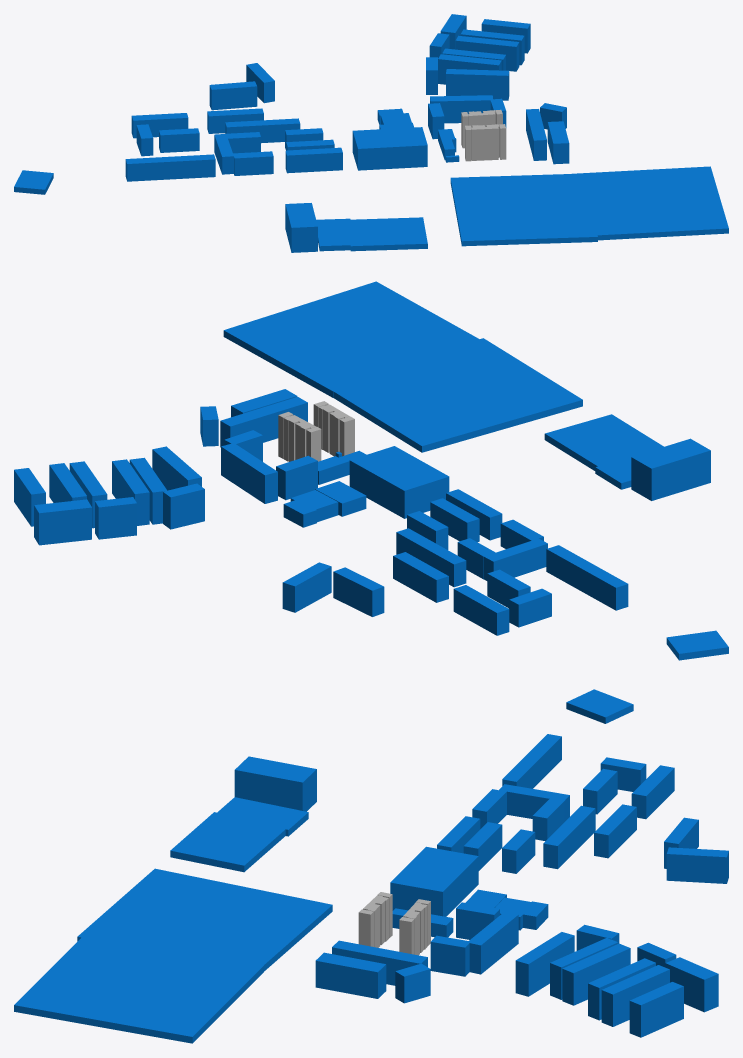
File: Dummy_LOC.fbx
The picture shows the model from 3 angles, top to bottom: view 1: azimuth 30°, elevation 25°; view 2: azimuth 150°, elevation 25°; view 3: azimuth 270°, elevation 25°; orthographic projection. The views are drawn at different scales.
Visible parts, largest first — view 1: Cube__35_, Cube__34_, Cube__41_, Cube__36_, Cube__40_, Cube__11_, Cube__38_, Cube__26_, Cube__21_, Cube__23_, Cube__14_, Cube__5__2 (+23 smaller); view 2: Cube__34_, Cube__35_, Cube__41_, Cube__38_, Cube__36_, Cube__40_, Cube__19_, Cube__5__2, Cube__43_, Cube__23_, Cube__30_, Cube__21_ (+28 smaller); view 3: Cube__35_, Cube__34_, Cube__41_, Cube__36_, Cube__38_, Cube__42_, Cube__16_, Cube__13_, Cube__20_, Cube__11_, Cube__15_, Cube__5__2 (+27 smaller).
Boxes of the visible parts, x1,y1,x2,y2 form: Cube__35_: (572, 166, 728, 240); Cube__34_: (450, 174, 597, 246); Cube__41_: (352, 127, 427, 170); Cube__36_: (348, 217, 427, 251); Cube__40_: (125, 154, 215, 181); Cube__11_: (446, 69, 509, 100); Cube__38_: (285, 203, 317, 252); Cube__26_: (285, 147, 342, 173); Cube__21_: (209, 81, 257, 110); Cube__23_: (225, 118, 300, 143); Cube__14_: (455, 35, 519, 71); Cube__5__2: (430, 95, 492, 123); Cube__34_: (323, 338, 582, 452); Cube__35_: (223, 281, 479, 397); Cube__41_: (349, 446, 449, 518); Cube__38_: (631, 438, 710, 500); Cube__36_: (544, 414, 663, 470); Cube__40_: (546, 545, 628, 610); Cube__19_: (34, 499, 91, 545); Cube__5__2: (221, 443, 277, 503); Cube__43_: (220, 397, 307, 447); Cube__23_: (396, 528, 466, 587); Cube__30_: (453, 585, 509, 635); Cube__21_: (333, 567, 384, 616); Cube__35_: (14, 934, 263, 1043); Cube__34_: (77, 868, 332, 971); Cube__41_: (390, 846, 478, 916); Cube__36_: (170, 812, 285, 872); Cube__38_: (234, 756, 316, 811); Cube__42_: (315, 952, 386, 998); Cube__16_: (629, 982, 683, 1037); Cube__13_: (562, 943, 630, 1005); Cube__20_: (666, 847, 728, 883); Cube__11_: (515, 932, 574, 996); Cube__15_: (601, 965, 669, 1026); Cube__5__2: (467, 911, 518, 974).
Bounding box in the file's own units: 100509 × 6118 × 87347.
